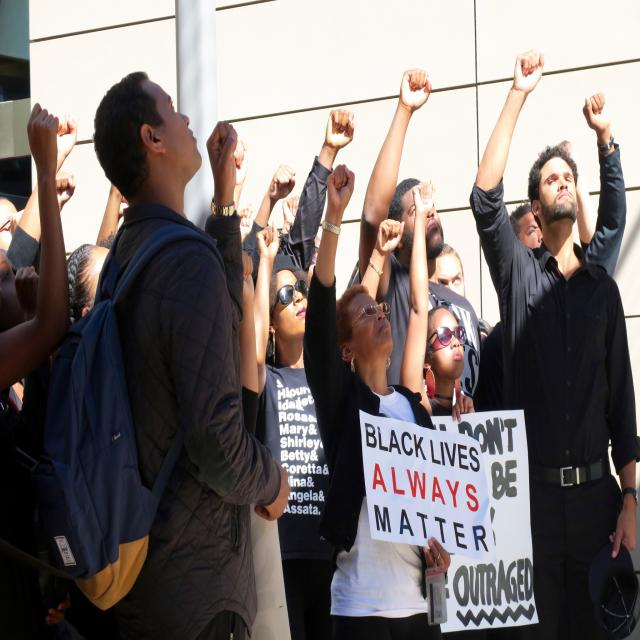body: (37, 66, 297, 640), (468, 42, 640, 640), (301, 162, 456, 640), (0, 100, 123, 638), (357, 61, 486, 402), (252, 219, 332, 640), (231, 109, 357, 277), (399, 177, 477, 423), (556, 138, 595, 256), (236, 276, 260, 435), (430, 243, 466, 309), (506, 199, 544, 253)
